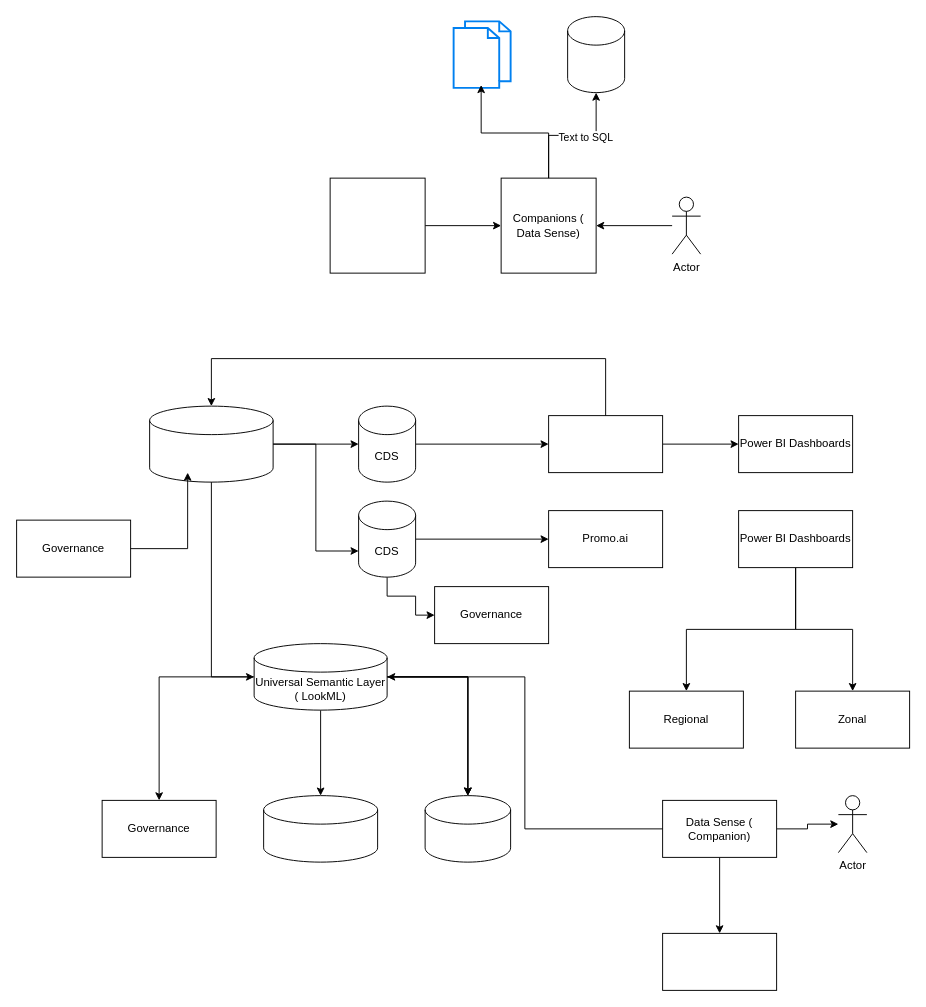
This 926x1007 diagram has some shape labels left out. The centre of each missing label's shape, as x and y in pixels:
"Big Query (CDS)" belongs at point (596, 54).
"Entity relatiionships / Views / Glossary" belongs at point (320, 828).
"Formulas ( Calculated fields)" belongs at point (467, 828).
"GenAI( Loreal GPT)" belongs at point (377, 225).
"Loreal GPT ( LLM Models / RAG )" belongs at point (719, 961).
"SDDS" belongs at point (211, 443).
"Unecorn" belongs at point (605, 444).
